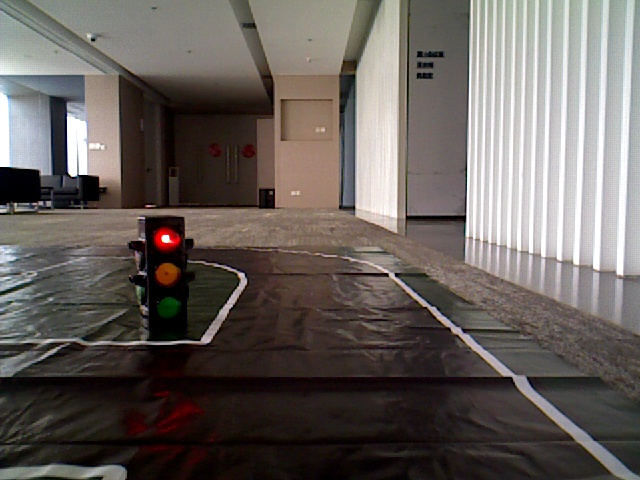red: (143, 217, 187, 331)
